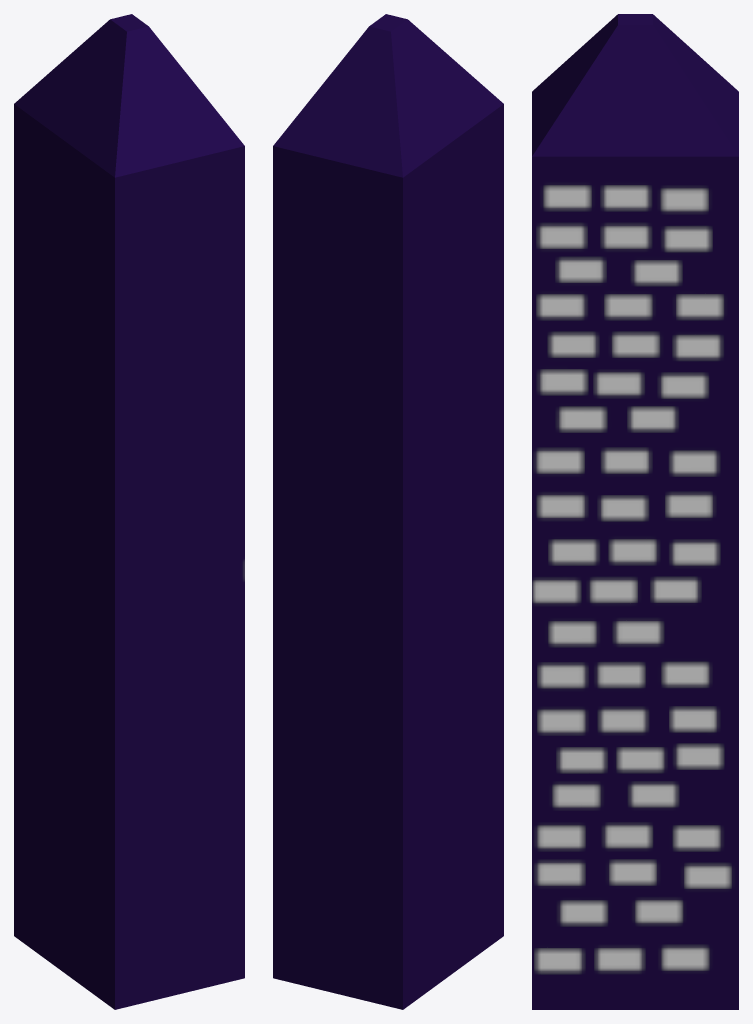
File: Building6.fbx
3 renders of one model, left to right at view 1: azimuth 30°, elevation 25°; view 2: azimuth 150°, elevation 25°; view 3: azimuth 270°, elevation 25°, orthographic. The views are drawn at different scales.
Visible parts, largest first — view 1: pCube4; view 2: pCube4; view 3: pCube4.
Part boxes in pixels (x1,y1,x2,y2): pCube4: (14, 14, 244, 1009); pCube4: (273, 14, 503, 1009); pCube4: (532, 14, 738, 1009).
Bounding box in the file's own units: 1 × 6.87 × 1.34.
